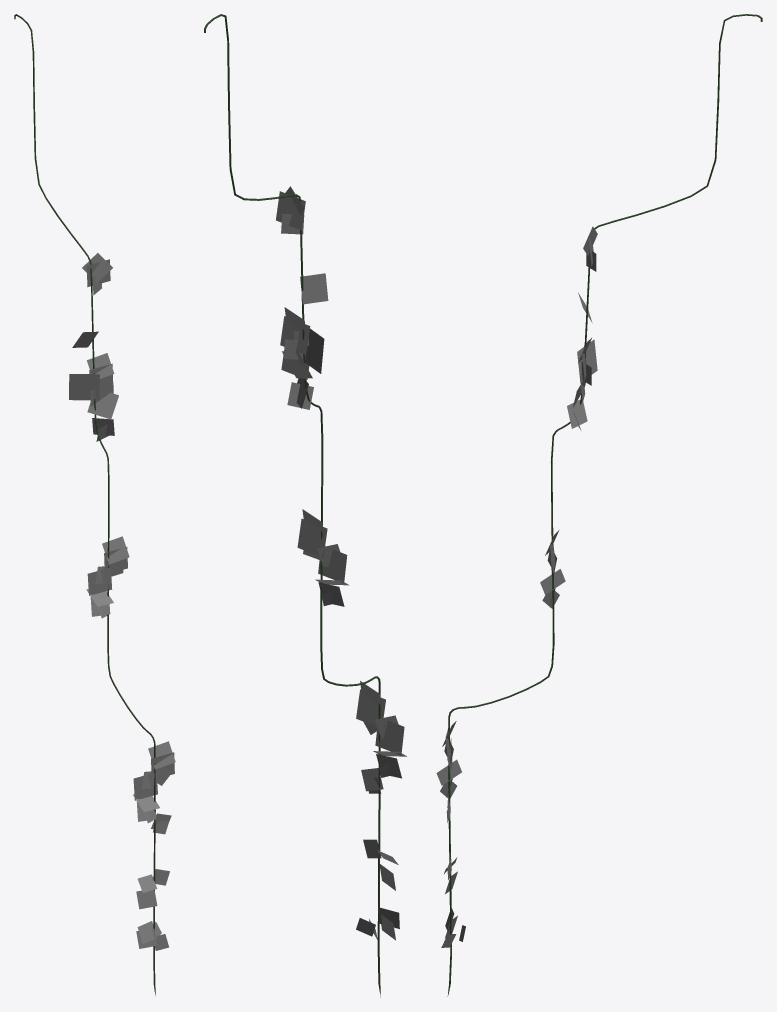
The model's file is SM_lians_01.fbx.
3 views of the same model, side by side, from view 1: azimuth 30°, elevation 25°; view 2: azimuth 150°, elevation 25°; view 3: azimuth 270°, elevation 25° (orthographic). The views are drawn at different scales.
Parts seen in each view (by area): view 1: Line029; view 2: Line029; view 3: Line029.
Boxes of the visible parts, x1=… form: Line029: x1=14, y1=14, x2=175, y2=995; Line029: x1=204, y1=14, x2=406, y2=997; Line029: x1=436, y1=14, x2=762, y2=996.
Bounding box in the file's own units: 48.85 × 293 × 976.
